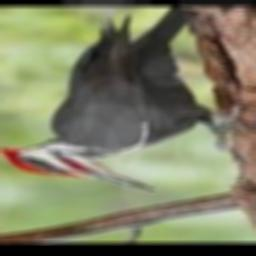Woodpecker: (0, 7, 256, 192)
